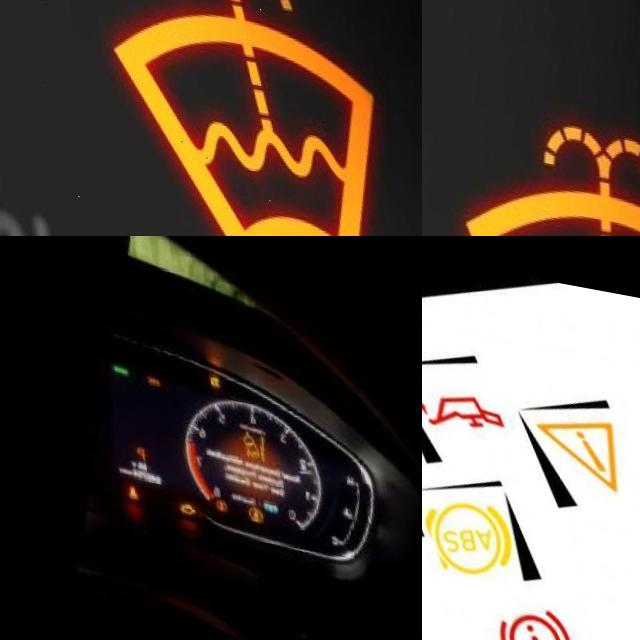Washer Fluid: (91, 0, 390, 236), (439, 97, 640, 236)
